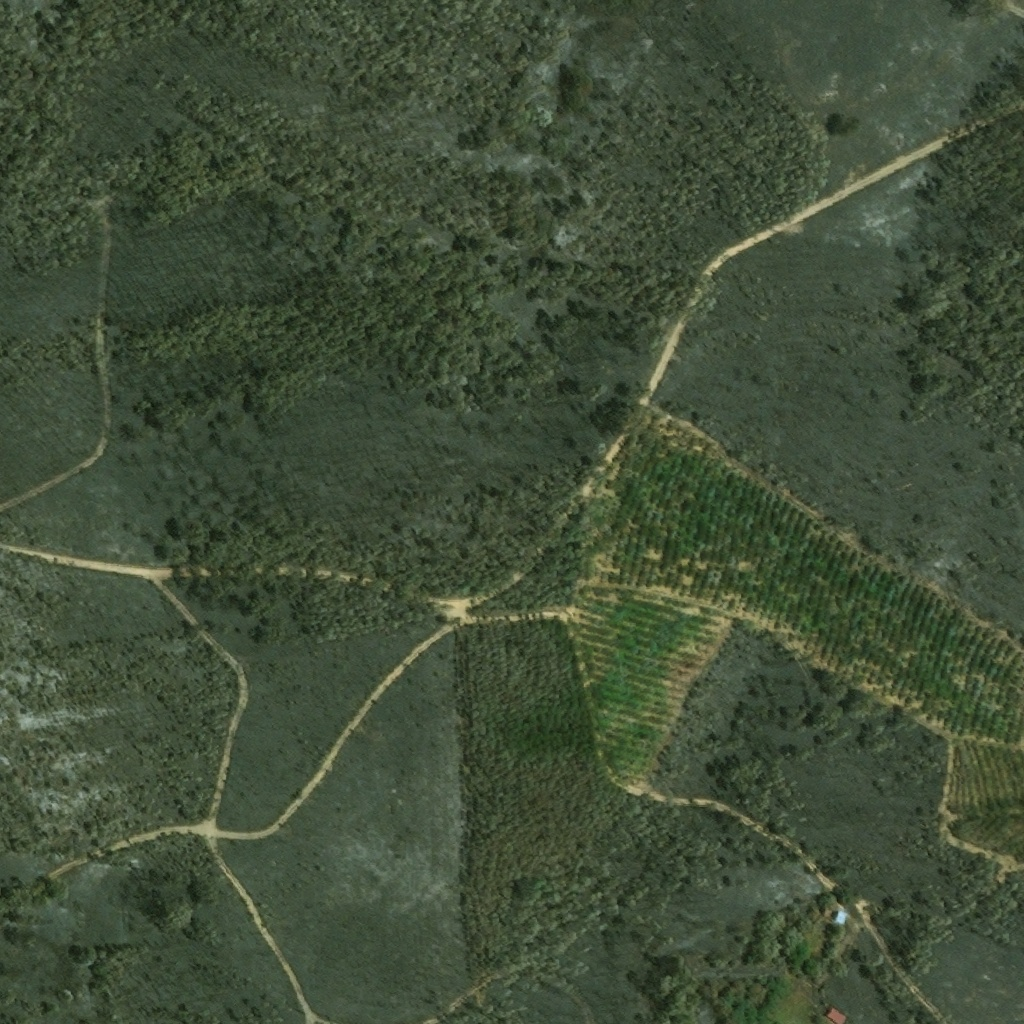3 destroyed: (822, 905, 848, 925)
